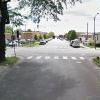Crosswalk: (18, 46, 91, 73)
